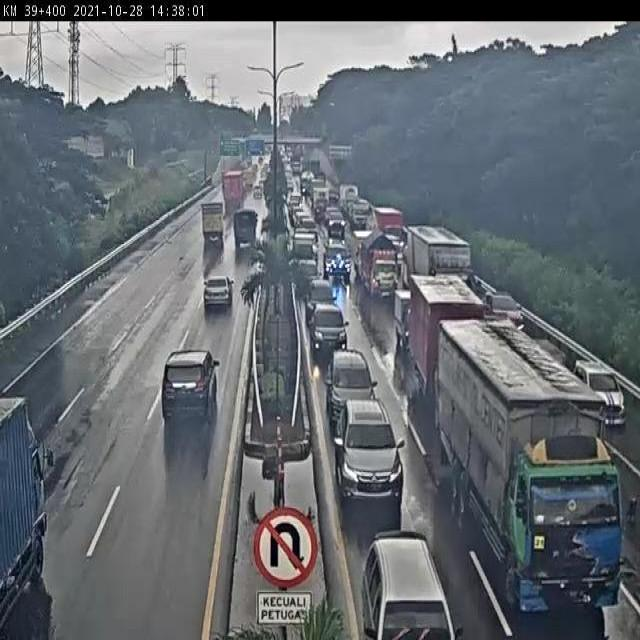big truck: (437, 314, 638, 626), (2, 368, 64, 640), (406, 220, 474, 291), (218, 165, 247, 208)
car: (348, 522, 456, 640), (151, 341, 231, 444), (335, 393, 406, 503), (565, 351, 636, 441), (321, 344, 381, 413), (472, 266, 520, 326), (306, 298, 352, 358), (199, 264, 240, 317), (388, 280, 419, 349), (322, 240, 355, 287)
small truck: (405, 269, 486, 395), (356, 231, 400, 297), (228, 203, 263, 257), (195, 199, 230, 248)
